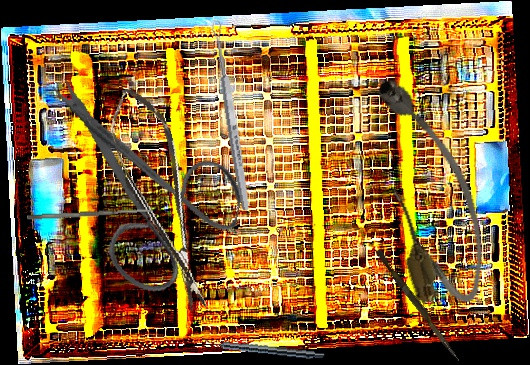Cannula: (361, 64, 498, 315)
Handpiece: (200, 336, 326, 361)
Iris Scissors: (15, 74, 259, 306)
Micro Scissor: (101, 80, 220, 319)
Pusher: (372, 248, 465, 363)
Spatula Surgical: (26, 207, 153, 221)
Surgical Spoon: (209, 19, 253, 212)
